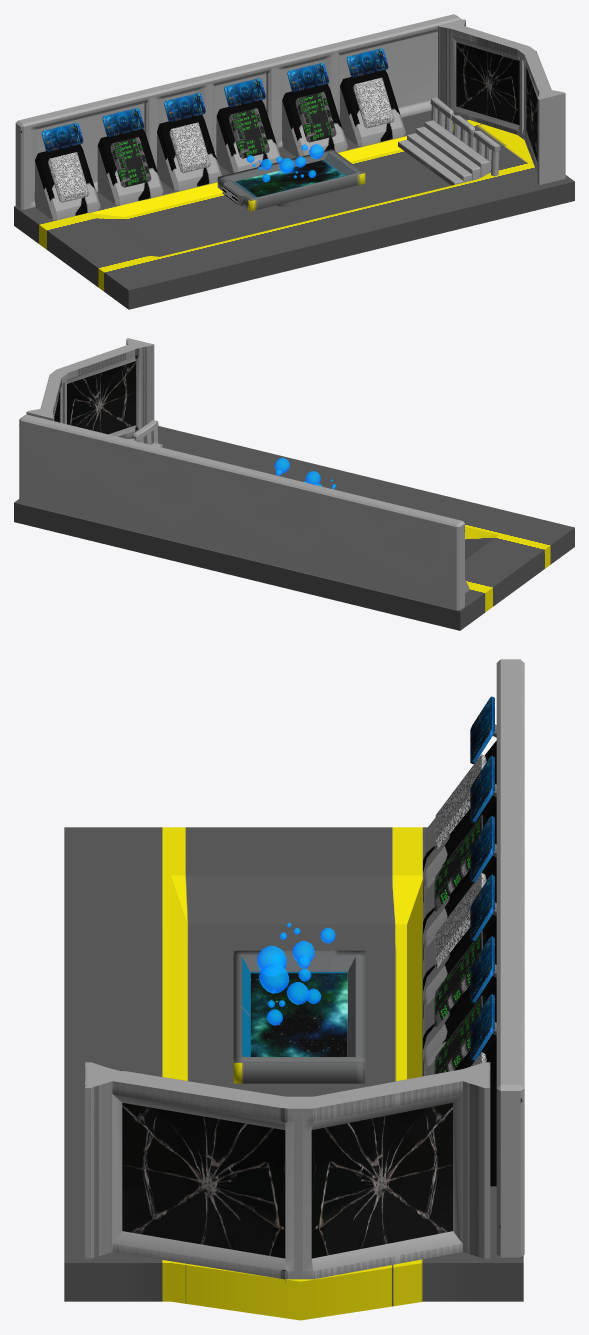
File: assessment_two_-_aie_-_sci_fi_ship_interior.glb
3 views of the same model, one above another, from view 1: azimuth 30°, elevation 25°; view 2: azimuth 150°, elevation 25°; view 3: azimuth 270°, elevation 25° (orthographic). The views are drawn at different scales.
Parts seen in each view (by area): view 1: floor:pCube1, window:Window, pCube1 (×5), pCube3, pCube10, hologram_table:pCube1, pCube9, computer:pCube1, guardrail_v2:guardrail, pCube18, pCube22, pCube21 (+16 smaller); view 2: floor:pCube1, pCube3, pCube10, pCube9, window:Window, guardrail_v2:guardrail; view 3: floor:pCube1, Window, window:Window, hologram_table:pCube1, pCube3, pCube1 (×4), pCube9, pCube10, computer:pCube1, pCube20, pCube19, computer:pCube2 (+8 smaller).
Boxes of the visible parts, x1,y1,x2,y2 form: floor:pCube1: (14, 111, 574, 309); window:Window: (438, 19, 565, 185); pCube1 (×5): (97, 70, 405, 205); pCube3: (266, 14, 461, 147); pCube10: (15, 74, 213, 210); hologram_table:pCube1: (217, 149, 365, 211); pCube9: (144, 44, 339, 169); computer:pCube1: (34, 144, 100, 220); guardrail_v2:guardrail: (430, 97, 500, 176); pCube18: (169, 122, 210, 173); pCube22: (353, 77, 394, 128); pCube21: (295, 91, 336, 142); floor:pCube1: (14, 426, 574, 630); pCube3: (19, 414, 214, 549); pCube10: (268, 476, 464, 610); pCube9: (144, 446, 336, 579); window:Window: (26, 338, 154, 438); guardrail_v2:guardrail: (128, 420, 158, 444); floor:pCube1: (64, 827, 523, 1320); Window: (122, 1102, 452, 1258); window:Window: (85, 1062, 490, 1282); hologram_table:pCube1: (233, 950, 365, 1083); pCube3: (496, 901, 524, 1257); pCube1 (×4): (423, 802, 496, 1186); pCube9: (496, 782, 524, 966); pCube10: (496, 659, 524, 846); computer:pCube1: (423, 740, 496, 887); pCube20: (434, 930, 486, 1027); pCube19: (434, 815, 486, 911); computer:pCube2: (434, 754, 486, 850).
Size of the model in its own units: 931 by 201 by 399.
Materials: 10 (10 with a texture image).
